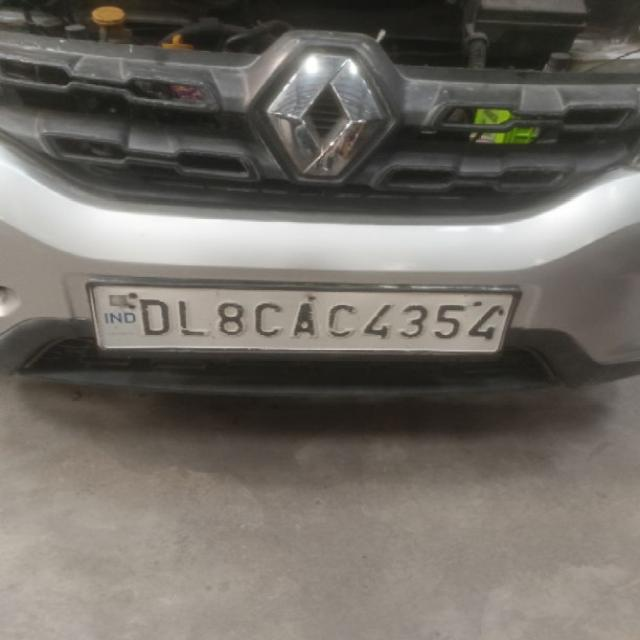license_plate: (85, 280, 522, 356)
